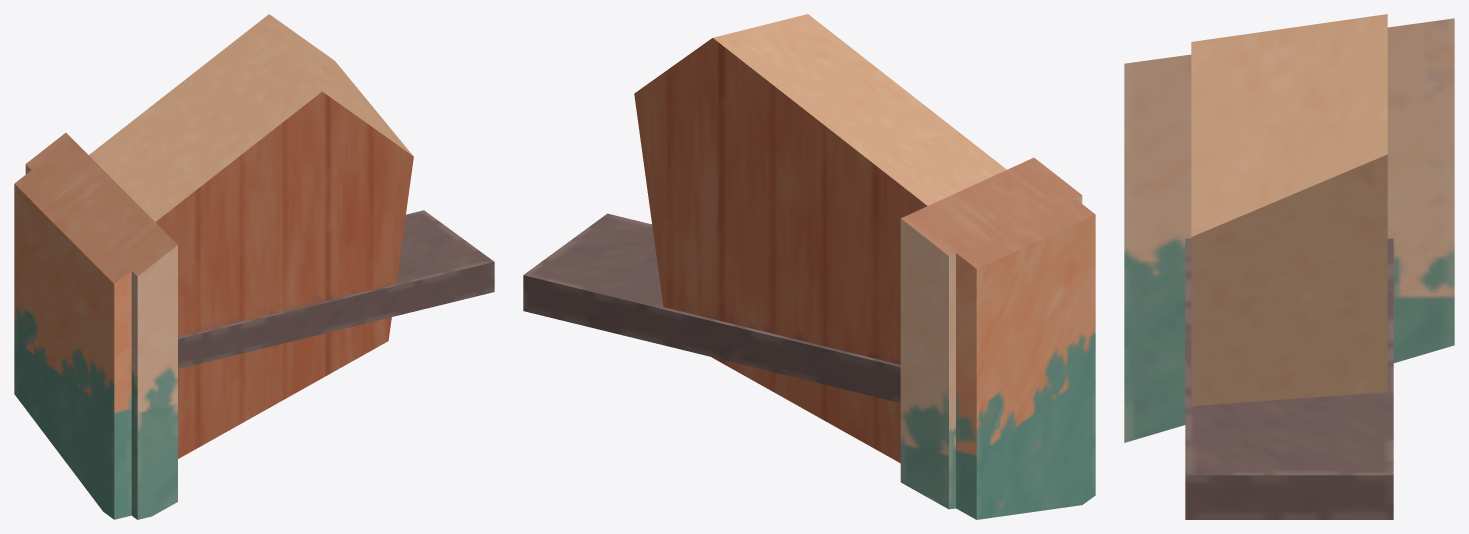
File: towngate_s09.fbx
The picture shows the model from 3 angles, left to right: view 1: azimuth 30°, elevation 25°; view 2: azimuth 150°, elevation 25°; view 3: azimuth 270°, elevation 25°; orthographic projection. The views are drawn at different scales.
Visible parts, largest first — view 1: towngate_s09; view 2: towngate_s09; view 3: towngate_s09.
Part boxes in pixels (x1=…): towngate_s09: x1=14, y1=14, x2=494, y2=519; towngate_s09: x1=523, y1=14, x2=1095, y2=519; towngate_s09: x1=1124, y1=14, x2=1454, y2=519.
Size of the model in its own units: 6.85 by 6.41 by 3.36.
